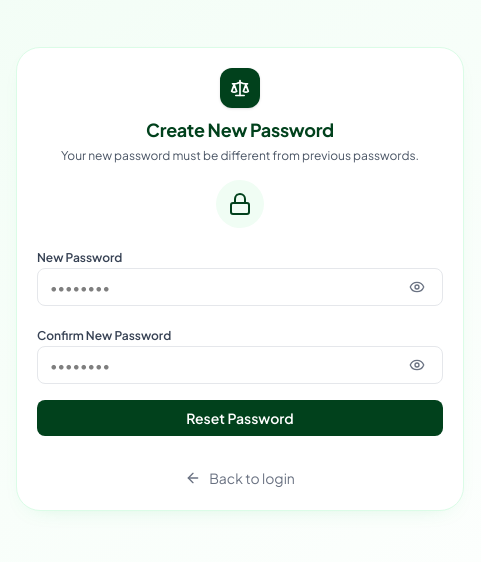
ResetPassword › surfaces an expired-token error from the backend
Expected: the heading "Create New Password" is shown, [146,118,334,141]
Step 1. Type "NewPassw0rd!" into the password field labelled "New Password" → (240, 287), box [37,268,443,306]
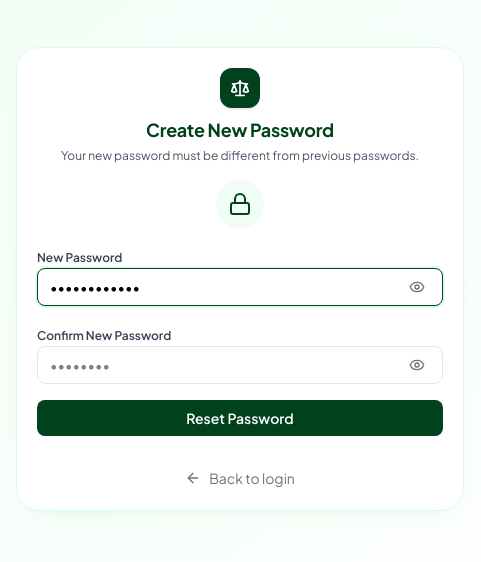
Step 2. Type "NewPassw0rd!" into the password field labelled "Confirm New Password" → (240, 365), box [37,346,443,384]
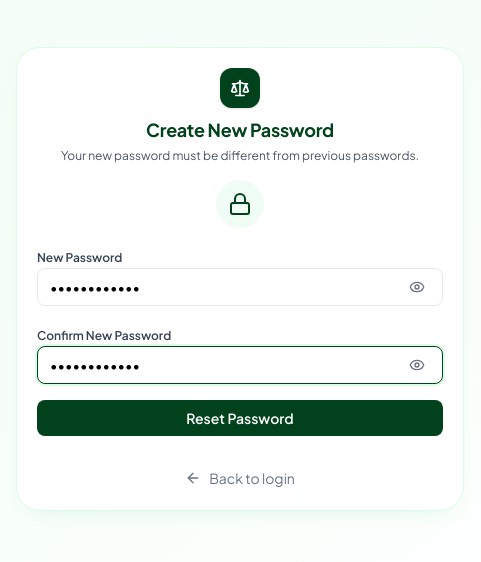
Step 3. Click the button "Reset Password" → (240, 418), box [37,400,443,436]
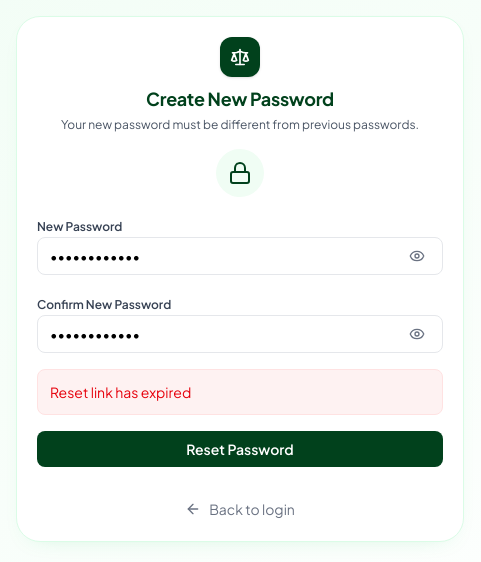
Result: the text "Reset link has expired" is shown at [37,369,443,415]
